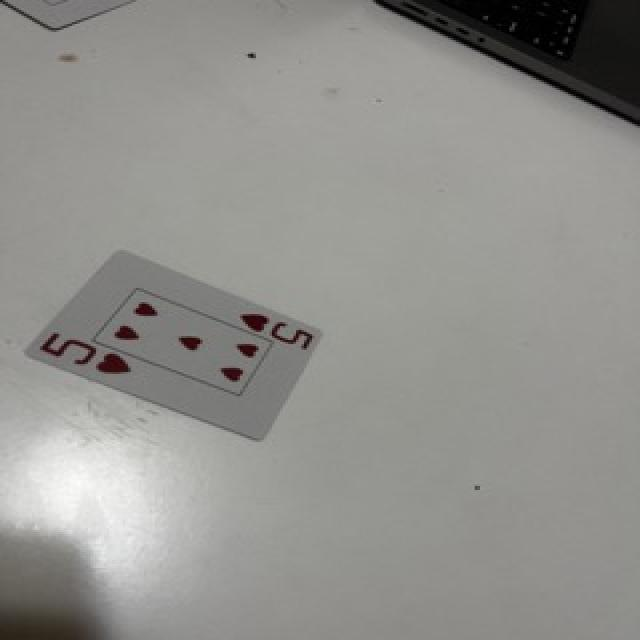5 of hearts: (27, 251, 320, 439)
